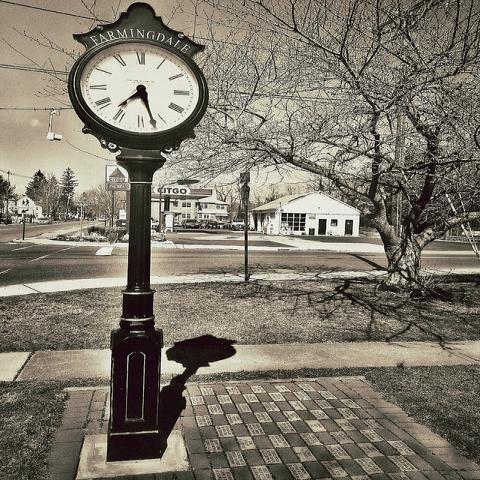car: (182, 218, 198, 228), (229, 220, 245, 230), (203, 221, 221, 229), (36, 218, 52, 224)
